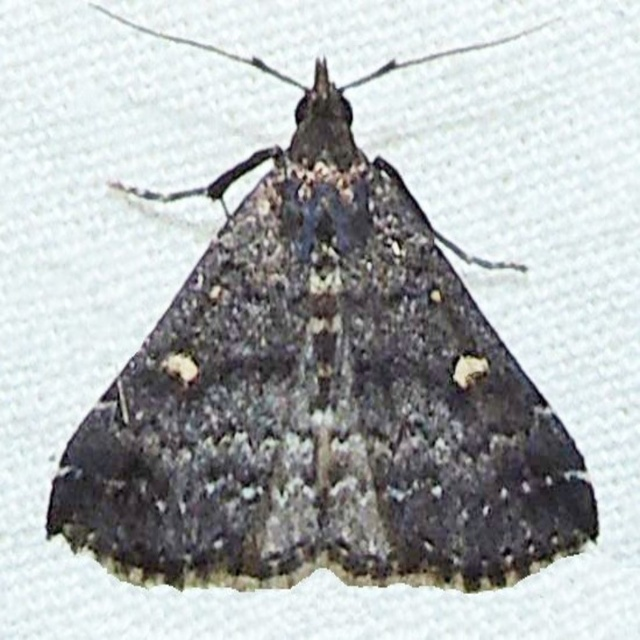Butterfly: (72, 19, 574, 603)
